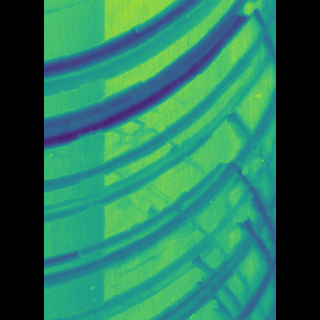Loch: (75, 25, 238, 224), (75, 0, 233, 154), (75, 160, 220, 293), (75, 0, 202, 100), (151, 226, 241, 319)
